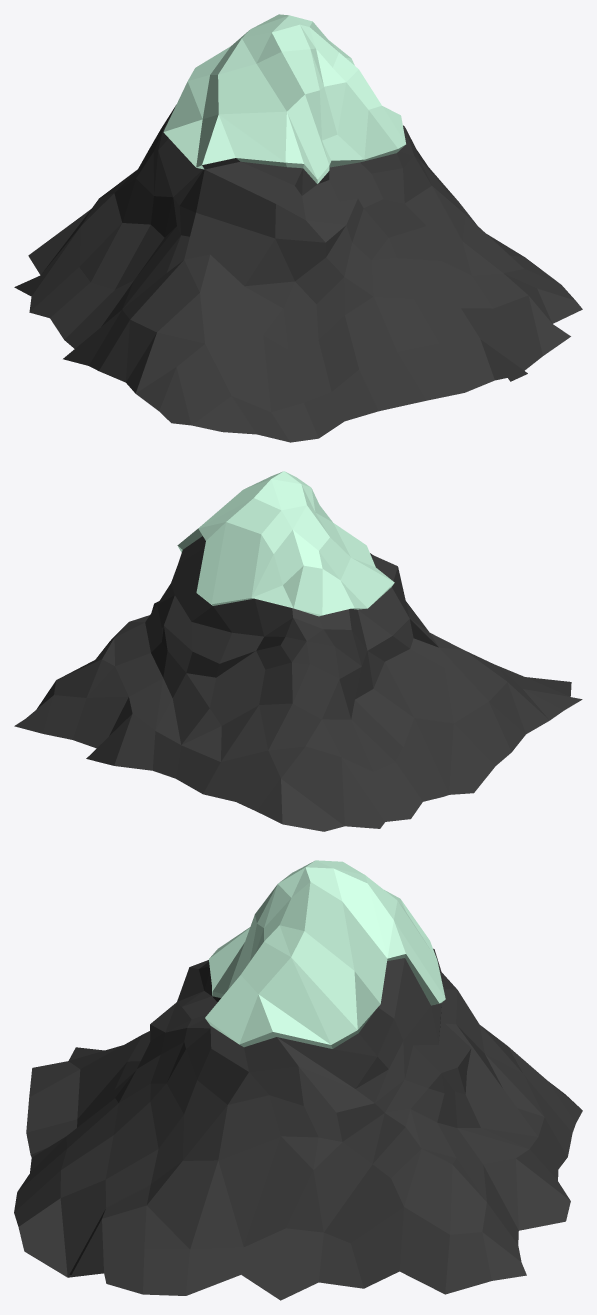
The model's file is Mountain.FBX.
3 views of the same model, one above another, from view 1: azimuth 30°, elevation 25°; view 2: azimuth 150°, elevation 25°; view 3: azimuth 270°, elevation 25° (orthographic). The views are drawn at different scales.
Parts seen in each view (by area): view 1: mountain_snow_1; view 2: mountain_snow_1; view 3: mountain_snow_1.
Part boxes in pixels (x1=…): mountain_snow_1: x1=14, y1=14, x2=582, y2=442; mountain_snow_1: x1=14, y1=471, x2=582, y2=831; mountain_snow_1: x1=14, y1=860, x2=582, y2=1300.
Bounding box in the file's own units: 519 × 345 × 507.
